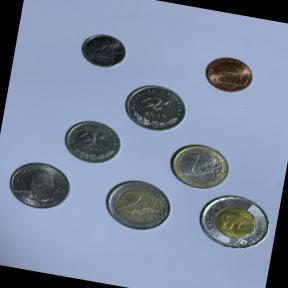coin: (192, 189, 278, 256), (97, 173, 176, 236), (116, 76, 195, 138), (2, 156, 76, 215), (162, 135, 235, 194), (200, 51, 261, 98), (75, 29, 132, 74)
